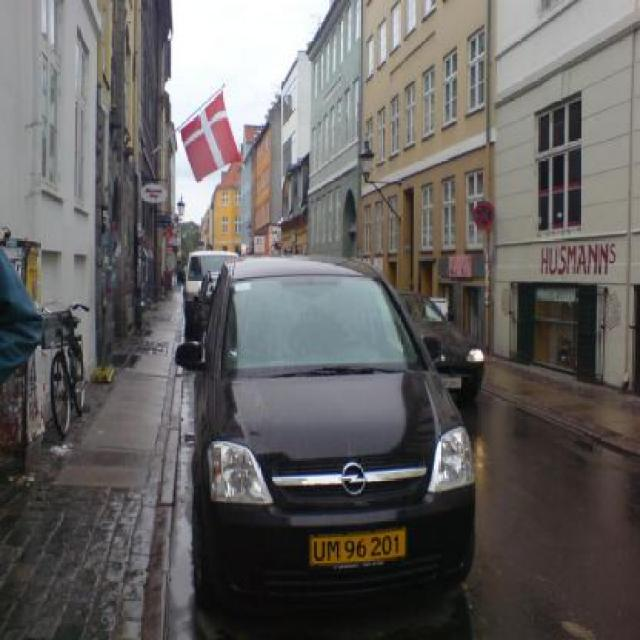License-Plates: (304, 525, 409, 570)
